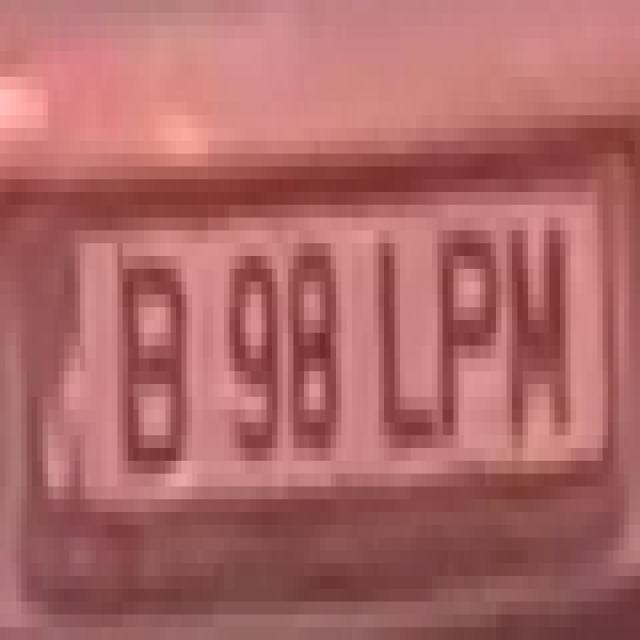Autre: (43, 202, 626, 503)
